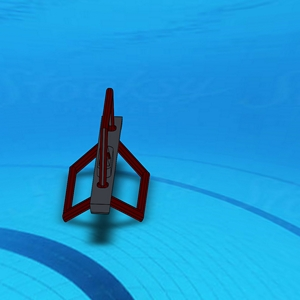submarine: (61, 86, 156, 229)
